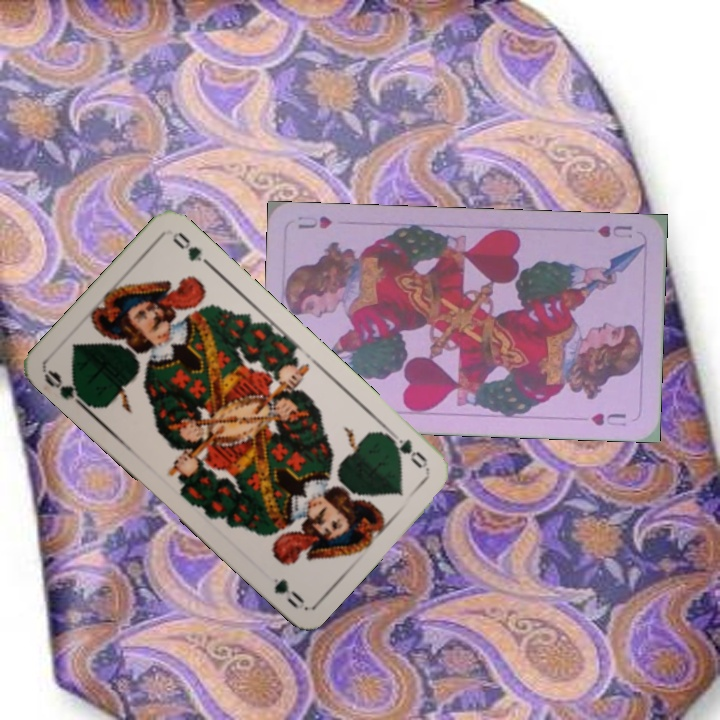GO: (40, 366, 95, 413), (383, 425, 431, 473)
HU: (594, 221, 635, 241)
